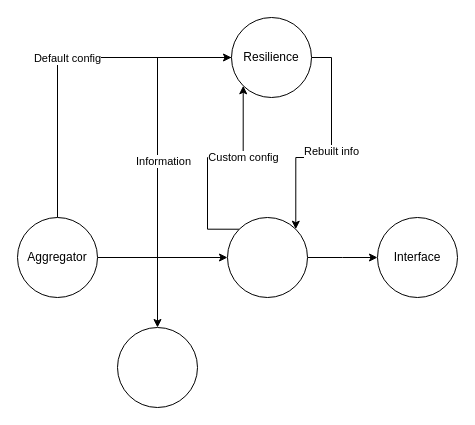
The diagram is 475 pixels wide and 425 high, and some of its shapes have lost their labels. Each missing label, with the centre of its shape:
"Notification" goes at [157,367].
"Plugin" goes at [267,257].
